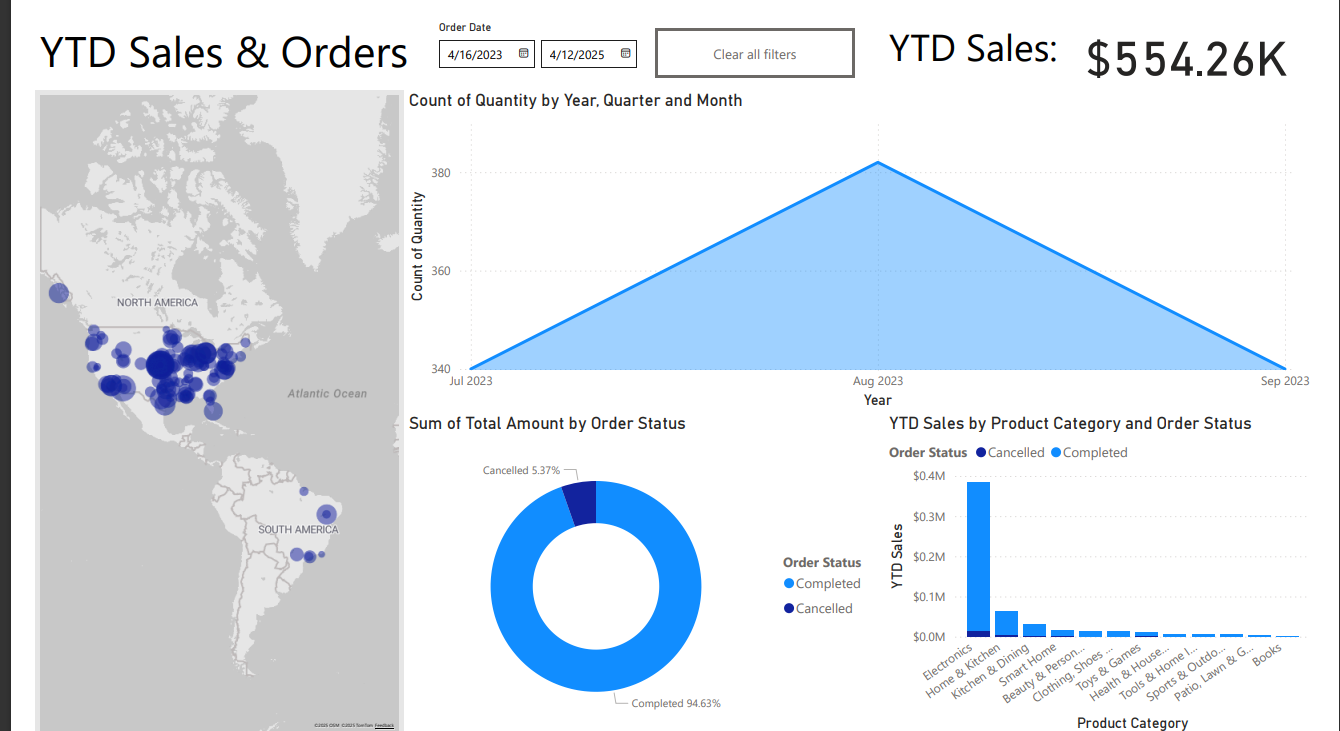

What the dashboard file says about the page in this screenshot:
{"tool":"powerbi","page":{"name":"Sales & Orders","canvas":[1280,720],"ordinal":1},"visuals":[{"type":"azureMap","fields":{"Category":["customer profiles.Location"],"Size":["Sum(orders.Total Amount)"]},"box":[0,73.6,369,646.4],"z":0},{"type":"shape","box":[0,0,1280.2,73.6],"z":1000},{"type":"textbox","box":[0,0,391.4,73.6],"z":2000},{"type":"stackedAreaChart","fields":{"Category":["orders.Order Date.Variation.Date Hierarchy.Year","orders.Order Date.Variation.Date Hierarchy.Quarter","orders.Order Date.Variation.Date Hierarchy.Month","orders.Order Date.Variation.Date Hierarchy.Day"],"Y":["CountNonNull(orders.Quantity)"]},"box":[369,73.6,911.2,323.2],"z":3000},{"type":"donutChart","fields":{"Category":["orders.Order Status"],"Y":["Sum(orders.Total Amount)"]},"box":[369,396.8,480.3,323.2],"z":4000},{"type":"columnChart","fields":{"Y":["orders.YTD Sales"],"Category":["products.Product Category"],"Series":["orders.Order Status"]},"box":[849,397,431,323],"z":5000},{"type":"card","fields":{"Values":["orders.YTD Sales"]},"box":[1037.8,0,227.1,73.6],"z":6000},{"type":"textbox","box":[849.1,0,189,73.6],"z":7000},{"type":"slicer","fields":{"Values":["orders.Order Date"]},"box":[391.4,0,457.7,74.8],"z":8000},{"type":"actionButton","box":[620,12,200,50],"z":8001}]}

Visuals, with their boxes on the page's 1280x720 design canvas (x1, y1, x2, y2). These are canvas units, not pixel positions in the 1340x731 screenshot, which may show the page scaled, cropped or inside an application window:
azureMap - customer profiles.Location x Sum(orders.Total Amount): box(0, 74, 369, 720)
shape: box(0, 0, 1280, 74)
textbox: box(0, 0, 391, 74)
stackedAreaChart - orders.Order Date.Variation.Date Hierarchy.Year x orders.Order Date.Variation.Date Hierarchy.Quarter: box(369, 74, 1280, 397)
donutChart - orders.Order Status x Sum(orders.Total Amount): box(369, 397, 849, 720)
columnChart - orders.YTD Sales x products.Product Category: box(849, 397, 1280, 720)
card - orders.YTD Sales: box(1038, 0, 1265, 74)
textbox: box(849, 0, 1038, 74)
slicer - orders.Order Date: box(391, 0, 849, 75)
actionButton: box(620, 12, 820, 62)
